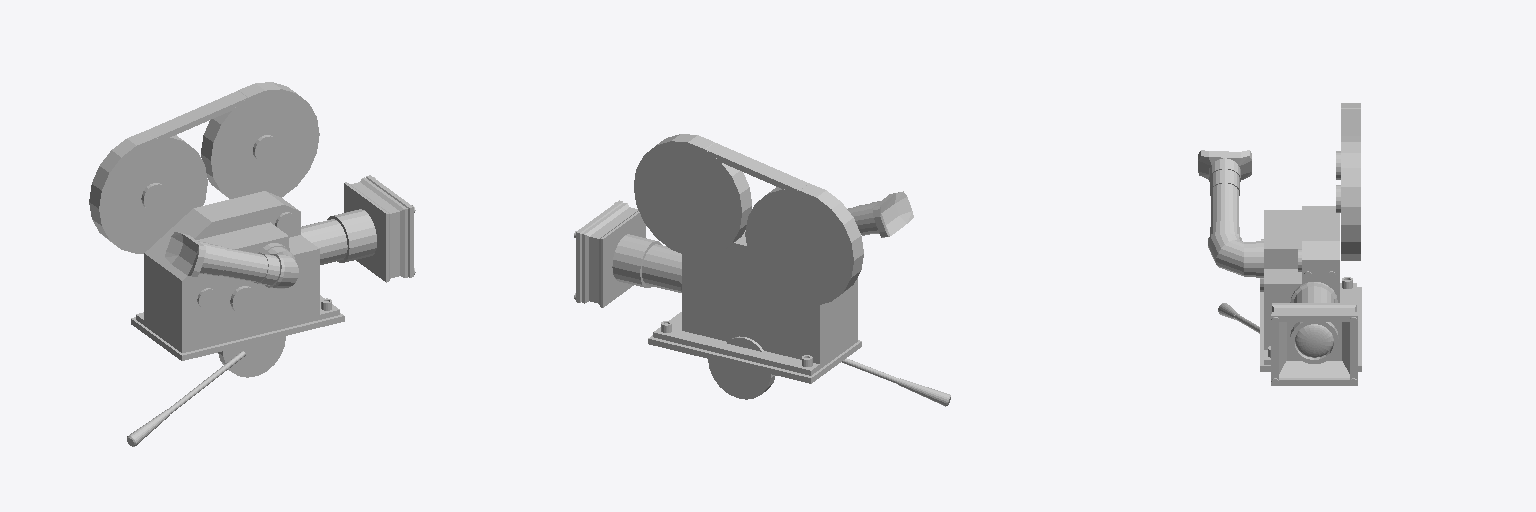
Rendered from filmcamera.obj.
The picture shows the model from 3 angles: view 1: azimuth 30°, elevation 25°; view 2: azimuth 150°, elevation 25°; view 3: azimuth 270°, elevation 25°; orthographic projection.
Visible parts, largest first — view 1: dialUpper_Untitled.014; view 2: dialUpper_Untitled.014; view 3: dialUpper_Untitled.014.
Boxes of the visible parts, x1,y1,x2,y2 form: dialUpper_Untitled.014: [89, 82, 415, 446]; dialUpper_Untitled.014: [574, 134, 950, 406]; dialUpper_Untitled.014: [1198, 103, 1361, 385].
Size of the model in its own units: 0.1892 by 0.1555 by 0.0865.